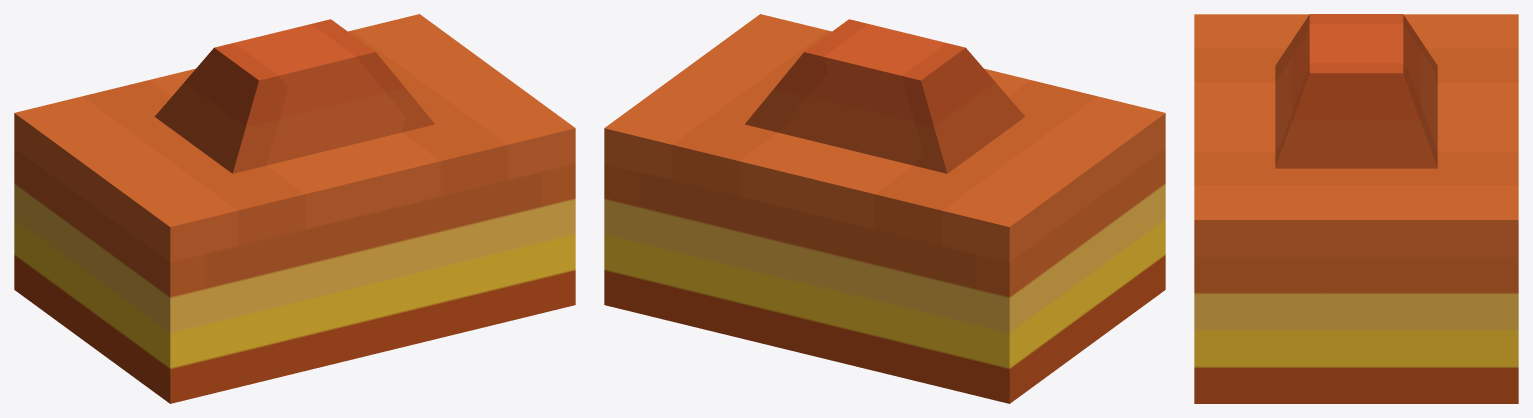
The picture shows the model from 3 angles, left to right: view 1: azimuth 30°, elevation 25°; view 2: azimuth 150°, elevation 25°; view 3: azimuth 270°, elevation 25°; orthographic projection. The views are drawn at different scales.
Visible parts, largest first — view 1: Root035; view 2: Root035; view 3: Root035.
Boxes of the visible parts, x1,y1,x2,y2 form: Root035: (14,14,575,403); Root035: (604,14,1165,403); Root035: (1194,14,1518,403).
Size of the model in its own units: 12 by 7 by 8.
